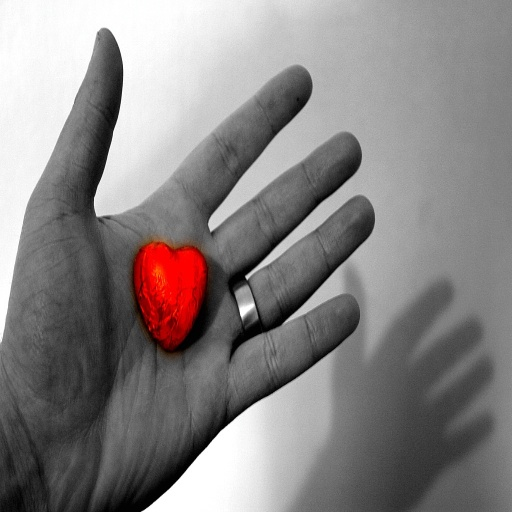hand: (1, 23, 375, 510)
